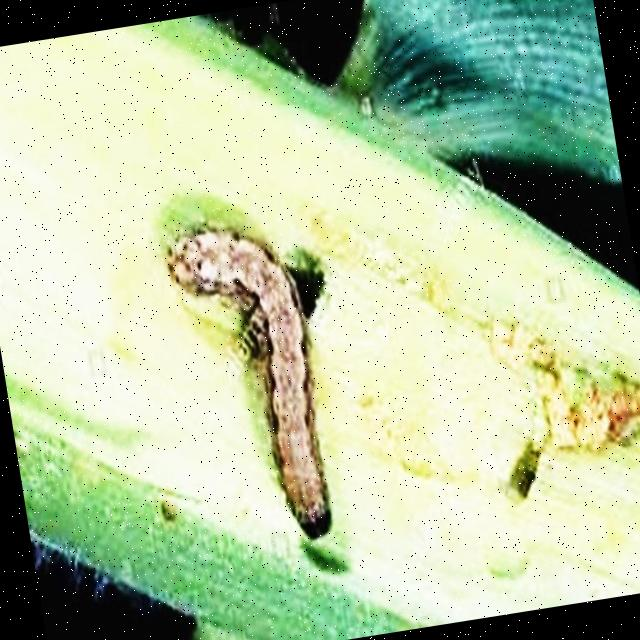worm: (152, 182, 343, 558)
